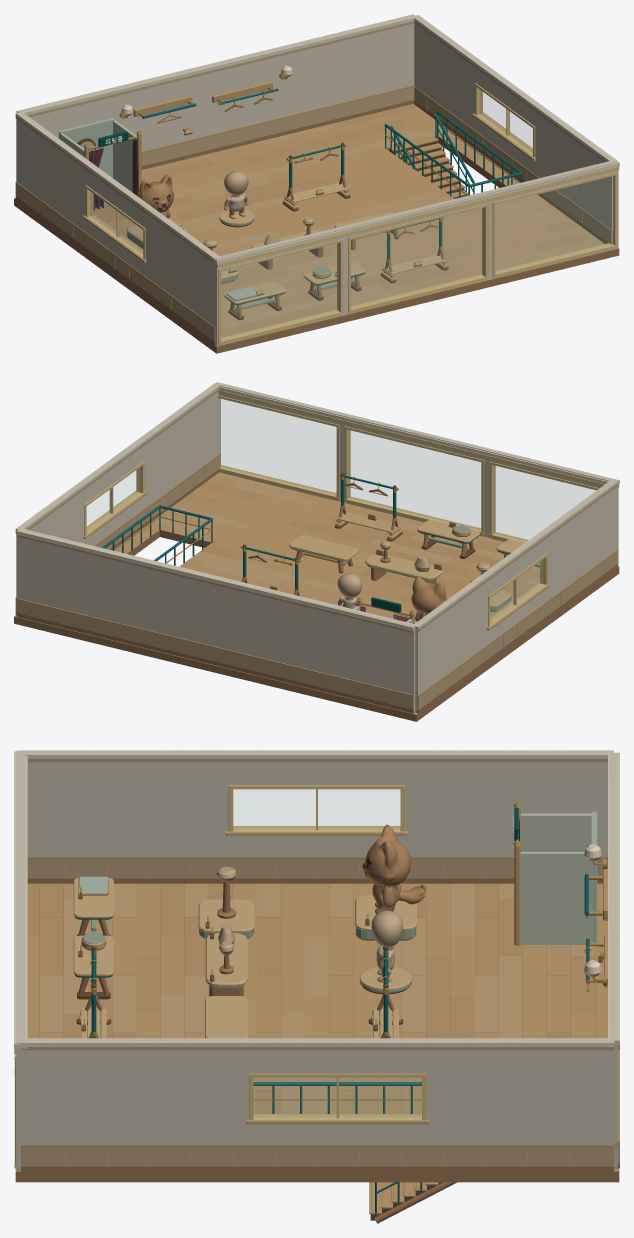
File: clothing-shop-interior-2f.glb
The picture shows the model from 3 angles, top to bottom: view 1: azimuth 30°, elevation 25°; view 2: azimuth 150°, elevation 25°; view 3: azimuth 270°, elevation 25°; orthographic projection. The views are drawn at different scales.
Visible parts, largest first — view 1: F2_Floor, F2_RearWall, F2_FrontGlass, F2_LeftWall, F2_RightWall, F2_FrontFrame, F2_FittingRoom, F2_StairUpper, F2_StairWellGuard, F2_FieldBootTableFrame, F2_FieldRailFrame, F2_LeftGlass (+8 smaller); view 2: F2_RearWall, F2_Floor, F2_FrontGlass, F2_LeftWall, F2_RightWall, F2_FrontFrame, F2_MillineryWindow, F2_StairWellGuard, F2_FieldCapTableFrame, F2_Reserve_Table_Frame, F2_StudioRailFrame, F2_RightGlass (+5 smaller); view 3: F2_Floor, F2_RightWall, F2_LeftWall, F2_FittingRoom, F2_LeftGlass, F2_RightGlass, F2_FrontFrame, F2_RearWall, F2_FieldMannequin, F2_MillineryWindow, F2_PeddlerHatForm, F2_StairUpper (+10 smaller).
Boxes of the visible parts, x1,y1,x2,y2 form: F2_Floor: (14,104,619,353); F2_RearWall: (16,14,416,169); F2_FrontGlass: (221,177,611,338); F2_LeftWall: (15,112,220,345); F2_RightWall: (414,15,617,244); F2_FrontFrame: (212,161,619,346); F2_FittingRoom: (59,118,141,209); F2_StairUpper: (389,114,474,198); F2_StairWellGuard: (384,111,522,197); F2_FieldBootTableFrame: (223,281,286,320); F2_FieldRailFrame: (282,142,350,211); F2_LeftGlass: (91,192,142,253); F2_RearWall: (16,528,416,713); F2_Floor: (14,472,619,721); F2_FrontGlass: (221,399,595,540); F2_LeftWall: (412,480,617,713); F2_RightWall: (15,383,220,615); F2_FrontFrame: (214,382,619,566); F2_MillineryWindow: (365,541,442,584); F2_StairWellGuard: (101,505,212,565); F2_FieldCapTableFrame: (417,520,479,558); F2_Reserve_Table_Frame: (289,535,359,573); F2_StudioRailFrame: (334,472,402,541); F2_RightGlass: (87,468,139,530); F2_Floor: (15,883,619,1182); F2_RightWall: (21,1038,613,1171); F2_LeftWall: (21,750,613,883); F2_FittingRoom: (513,802,597,945); F2_LeftGlass: (233,789,400,828); F2_RightGlass: (254,1078,421,1116); F2_FrontFrame: (14,750,27,1171); F2_RearWall: (608,752,619,1169); F2_FieldMannequin: (362,824,425,914); F2_MillineryWindow: (205,924,247,996); F2_PeddlerHatForm: (198,866,254,938); F2_StairUpper: (369,1182,456,1223).
Bounding box in the file's own units: 17.33 × 5.41 × 15.02.
Materials: 4 (1 with a texture image).
